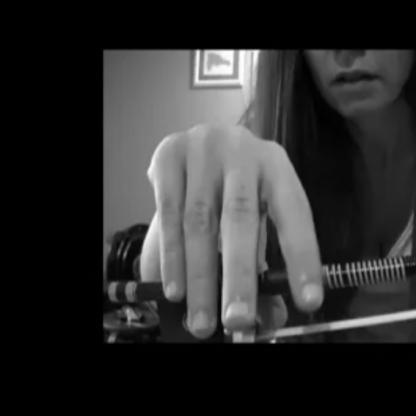bad: (146, 112, 326, 344)
